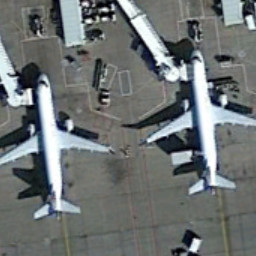Airplane: (1, 67, 117, 232), (135, 42, 256, 200)
